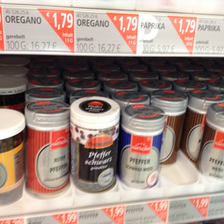spices: (68, 96, 120, 193), (25, 100, 70, 199), (122, 104, 164, 190)
